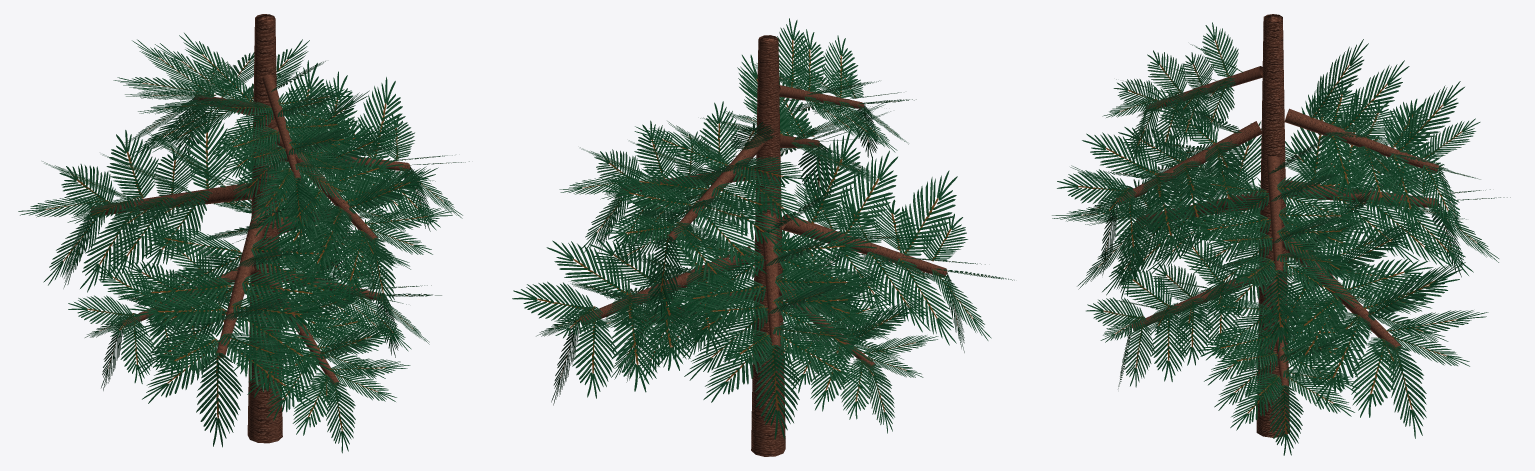
The model's file is Tree2.fbx.
3 views of the same model, side by side, from view 1: azimuth 30°, elevation 25°; view 2: azimuth 150°, elevation 25°; view 3: azimuth 270°, elevation 25° (orthographic).
Visible parts, largest first — view 1: Leaves8 (×8), Leaves19 (×6), Leaves2 (×6), Leaves6 (×6), Leaves7 (×6), Leaves12 (×6), Leaves1 (×5), Leaves15 (×6), TreeBase, Leaves17 (×6), Leaves18 (×5), Leaves3 (×6) (+14 smaller); view 2: TreeBase, Leaves2 (×5), Leaves1 (×5), Leaves19 (×4), Leaves7 (×5), Leaves12 (×5), Leaves3 (×4), Leaves10 (×4), Leaves8 (×6), Leaves6 (×5), Leaves18 (×4), Leaves17 (×4) (+14 smaller); view 3: Leaves18 (×7), Leaves2 (×7), Leaves15 (×5), Leaves3 (×7), Leaves19 (×6), TreeBase, Leaves8 (×8), Leaves14 (×5), Leaves6 (×6), Leaves1 (×5), Leaves7 (×6), Leaves16 (×5) (+18 smaller).
Part boxes in pixels (x1,y1,x2,y2): Leaves8 (×8): (18, 77, 453, 376); Leaves19 (×6): (93, 52, 354, 329); Leaves2 (×6): (43, 167, 432, 406); Leaves6 (×6): (105, 98, 403, 337); Leaves7 (×6): (67, 90, 428, 354); Leaves12 (×6): (132, 39, 438, 359); Leaves1 (×5): (101, 176, 395, 453); Leaves15 (×6): (136, 148, 440, 420); TreeBase: (247, 14, 282, 443); Leaves17 (×6): (59, 164, 388, 406); Leaves18 (×5): (116, 126, 327, 309); Leaves3 (×6): (80, 102, 385, 378); TreeBase: (751, 35, 785, 456); Leaves2 (×5): (572, 190, 923, 398); Leaves1 (×5): (551, 140, 894, 439); Leaves19 (×4): (546, 120, 766, 325); Leaves7 (×5): (605, 196, 916, 339); Leaves12 (×5): (768, 35, 957, 345); Leaves3 (×4): (611, 184, 876, 392); Leaves10 (×4): (729, 18, 860, 224); Leaves8 (×6): (554, 177, 967, 356); Leaves6 (×5): (644, 182, 889, 329); Leaves18 (×4): (590, 131, 763, 313); Leaves17 (×4): (512, 149, 774, 365); Leaves18 (×7): (1118, 52, 1404, 359); Leaves2 (×7): (1077, 105, 1469, 416); Leaves15 (×5): (1200, 154, 1473, 410); Leaves3 (×7): (1102, 98, 1448, 393); Leaves19 (×6): (1082, 50, 1371, 371); TreeBase: (1256, 14, 1289, 437); Leaves8 (×8): (1052, 98, 1488, 385); Leaves14 (×5): (1189, 147, 1451, 385); Leaves6 (×6): (1170, 87, 1433, 334); Leaves1 (×5): (1100, 200, 1463, 455); Leaves7 (×6): (1139, 99, 1459, 361); Leaves16 (×5): (1188, 134, 1419, 360).
Bounding box in the file's own units: 8.59 × 8.59 × 8.93.
2 materials, 2 textured.
